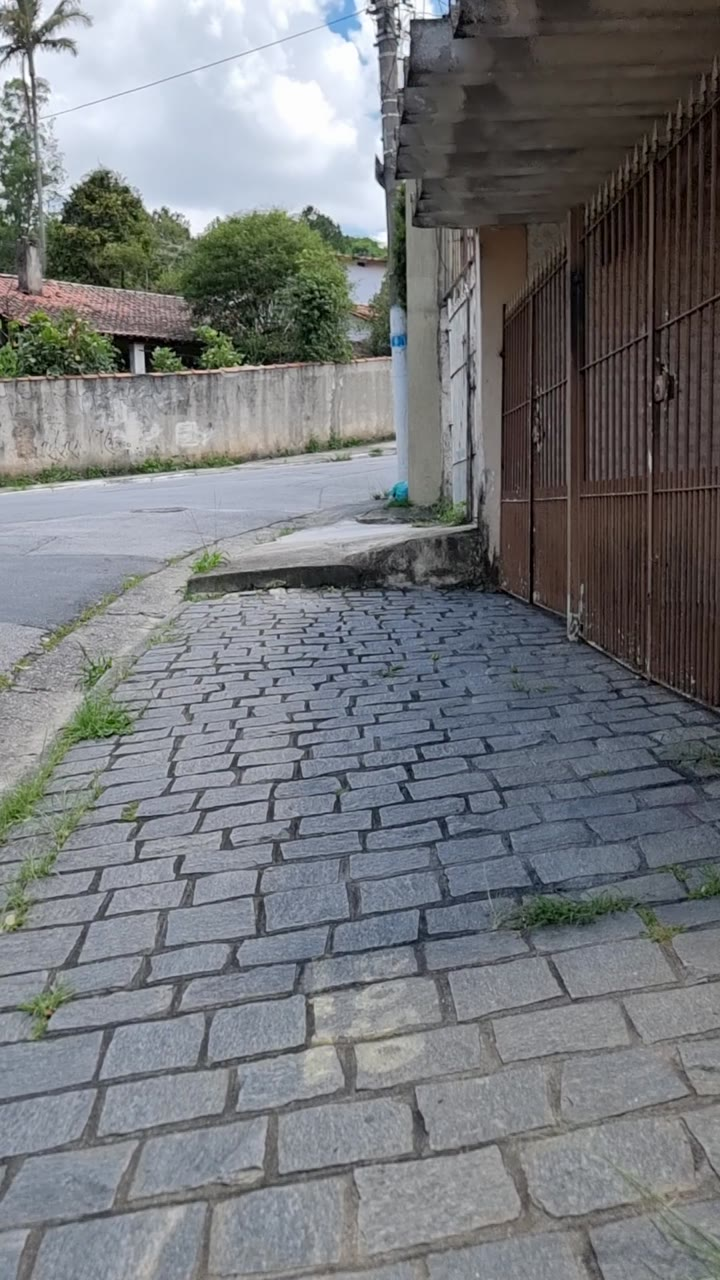desnivel: (180, 525, 475, 614)
obstaculo: (382, 0, 425, 486)
